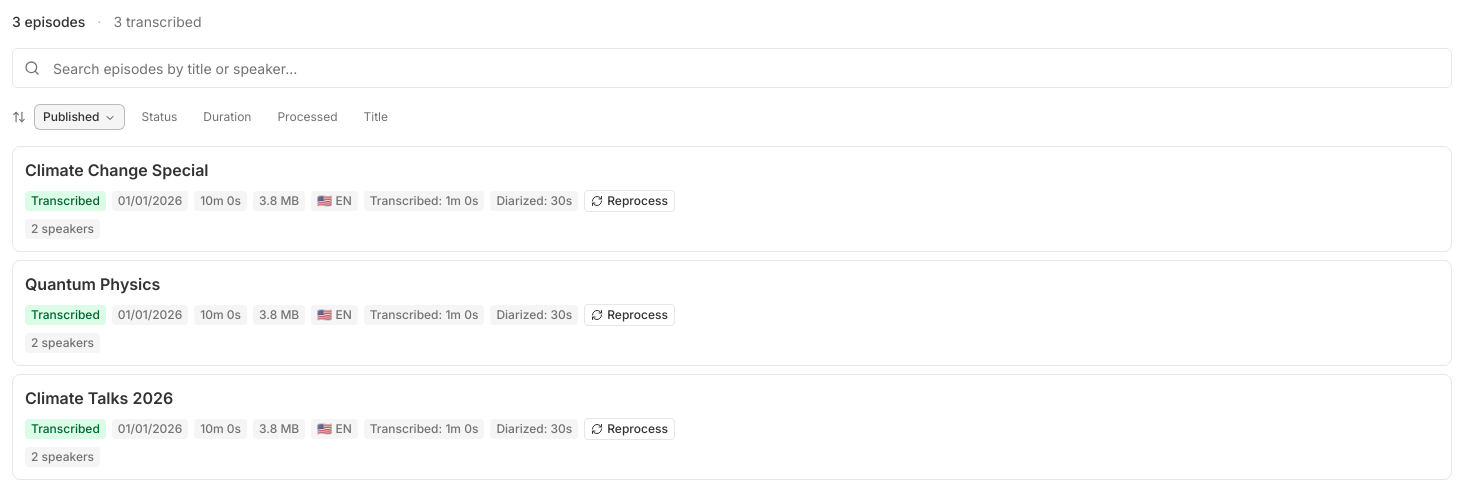
Test case: EpisodesList — search filter › filters by title query and shows 'X of Y'
This screenshot has width=1464, height=497.
Type "climate" into the field labelled "Search episodes by title or speaker...". click: {"x": 732, "y": 68}
box: [12,48,1452,88]
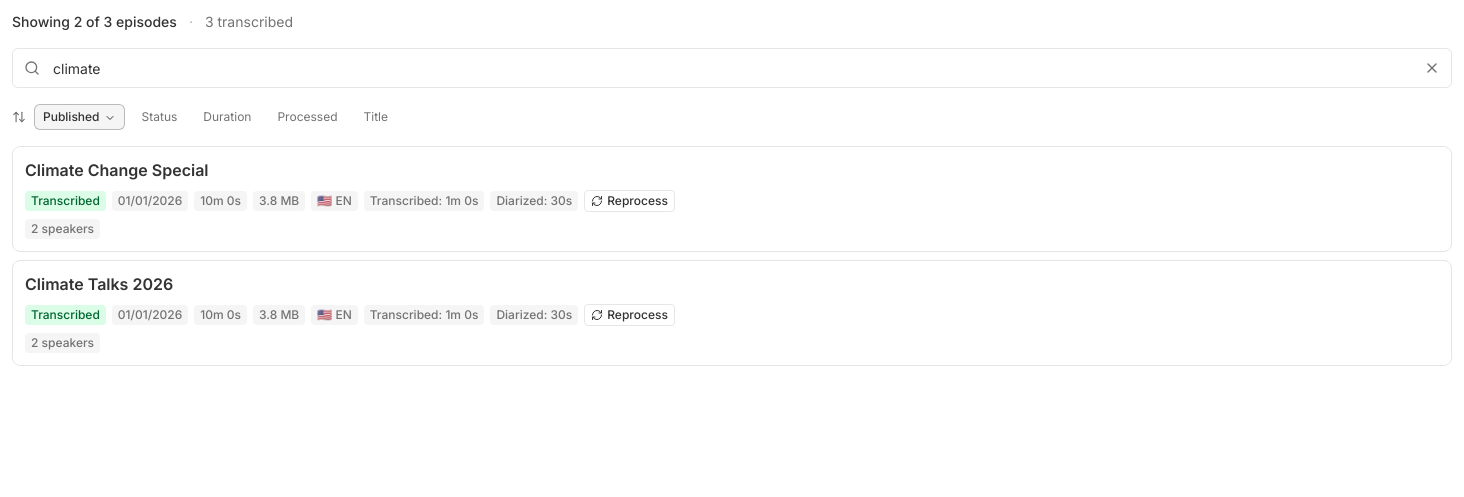
Check: the text "Showing 2 of 3 episodes" is shown, box [12,12,177,32]
